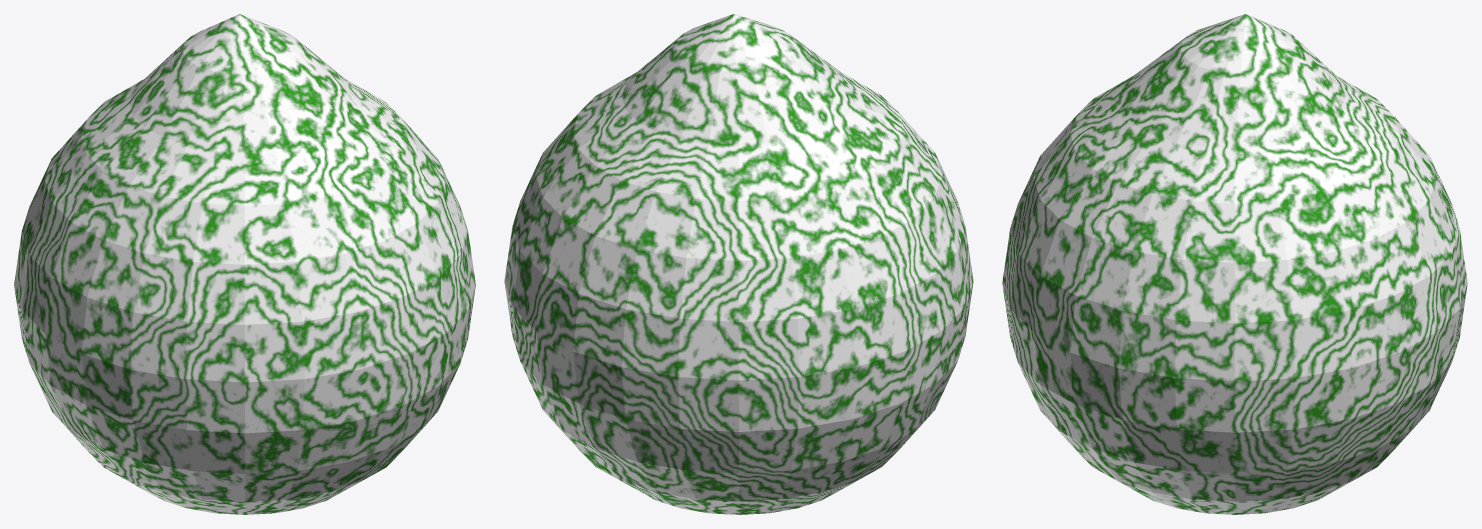
File: EmptyModel.fbx
3 views of the same model, side by side, from view 1: azimuth 30°, elevation 25°; view 2: azimuth 150°, elevation 25°; view 3: azimuth 270°, elevation 25° (orthographic).
Visible parts, largest first — view 1: Sphere; view 2: Sphere; view 3: Sphere.
Part boxes in pixels (x1,y1,x2,y2): Sphere: (14, 14, 475, 514); Sphere: (504, 14, 973, 514); Sphere: (1002, 14, 1467, 514).
Bounding box in the file's own units: 200 × 228 × 200.
Materials: 1 (1 with a texture image).
